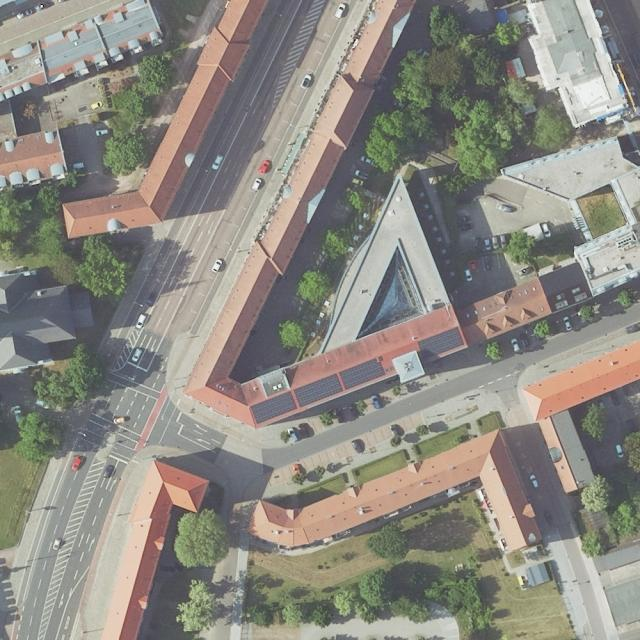PV: (293, 374, 343, 407), (250, 391, 297, 424), (340, 357, 385, 391), (418, 327, 464, 358)
